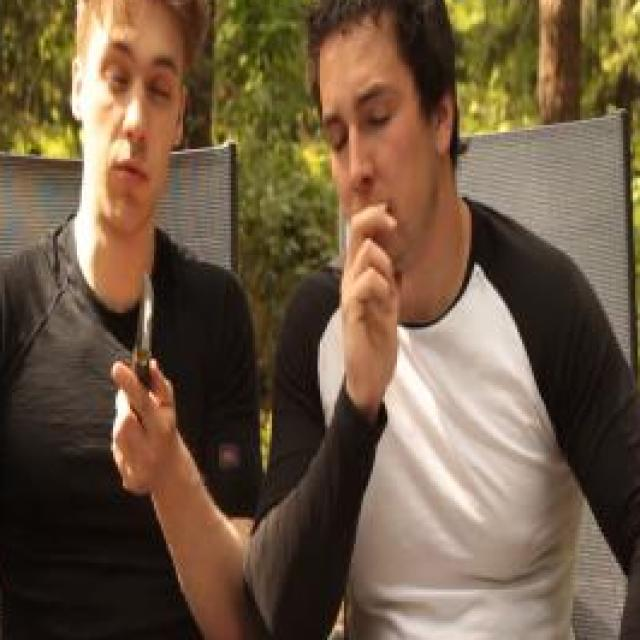knife: (101, 252, 177, 494)
